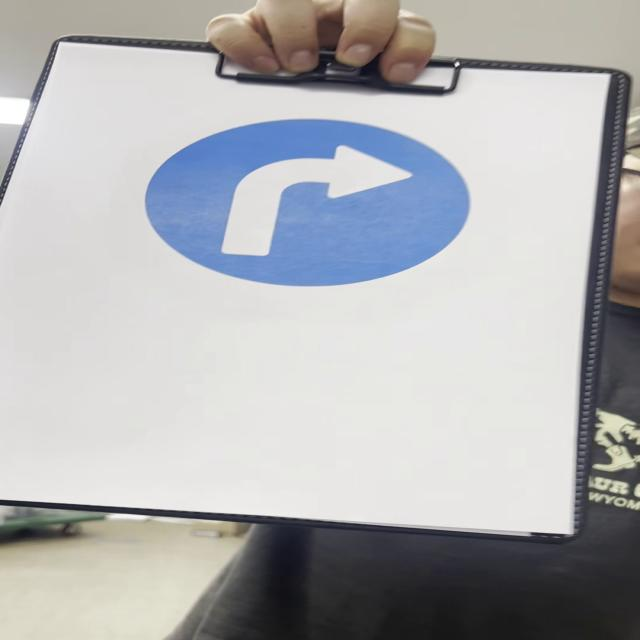right: (145, 118, 475, 289)
